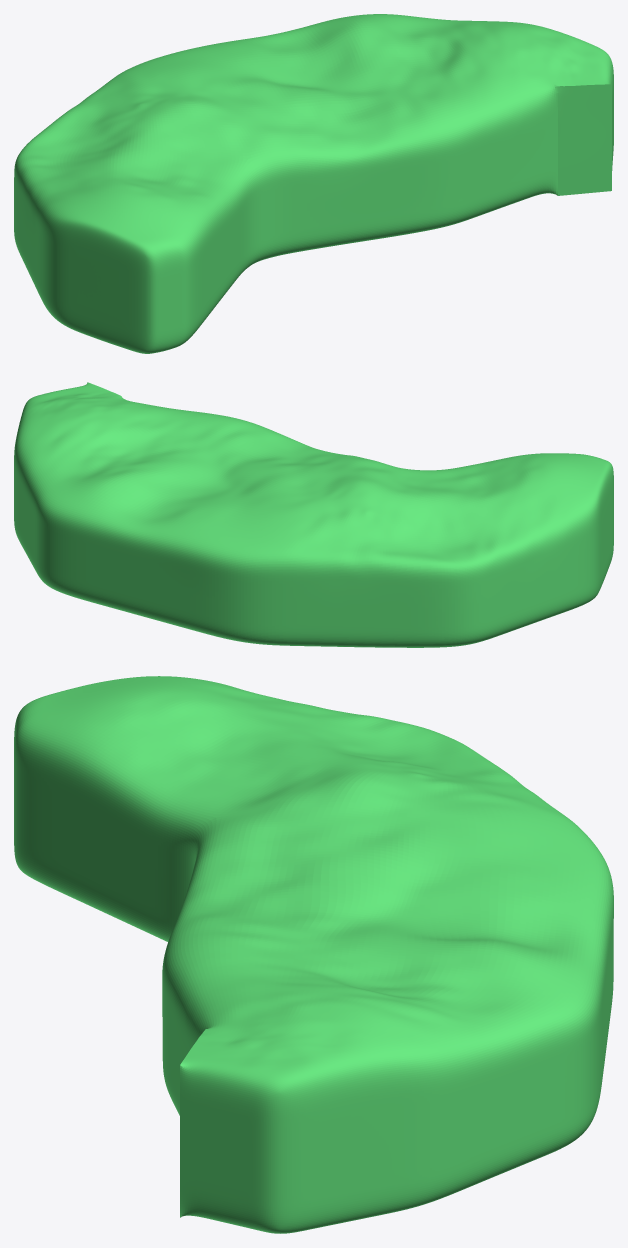
Rendered from GROUND_R01.fbx.
3 renders of one model, top to bottom at view 1: azimuth 30°, elevation 25°; view 2: azimuth 150°, elevation 25°; view 3: azimuth 270°, elevation 25°, orthographic. The views are drawn at different scales.
Visible parts, largest first — view 1: Plane; view 2: Plane; view 3: Plane.
Part boxes in pixels (bbox=[...]): Plane: bbox=[14, 14, 613, 353]; Plane: bbox=[14, 382, 613, 647]; Plane: bbox=[14, 676, 613, 1233].
Size of the model in its own units: 9448 by 1988 by 5819.
